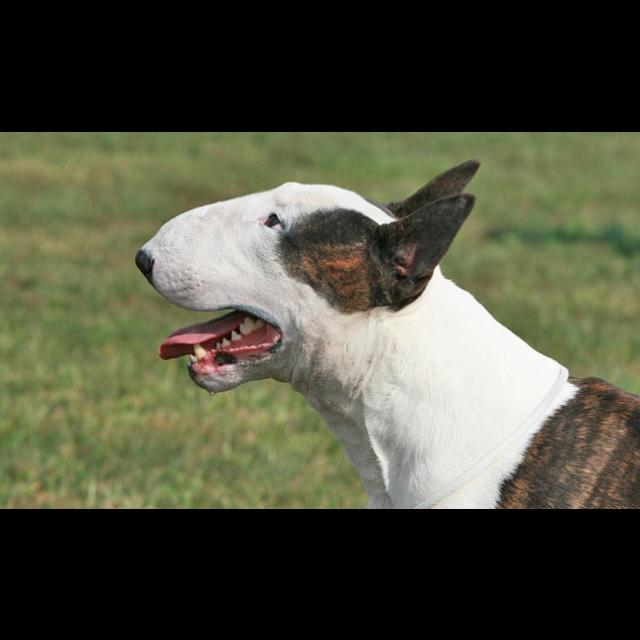bullterrier: (135, 157, 640, 508)
